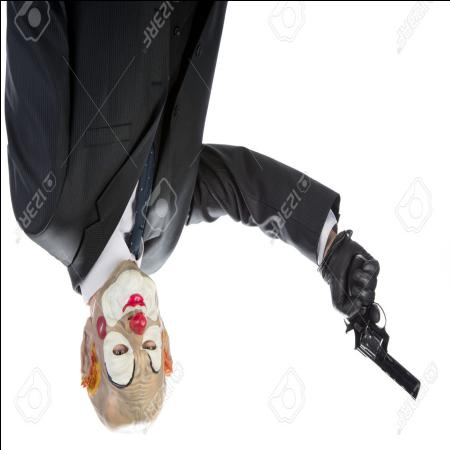Pistol: (340, 250, 425, 400)
